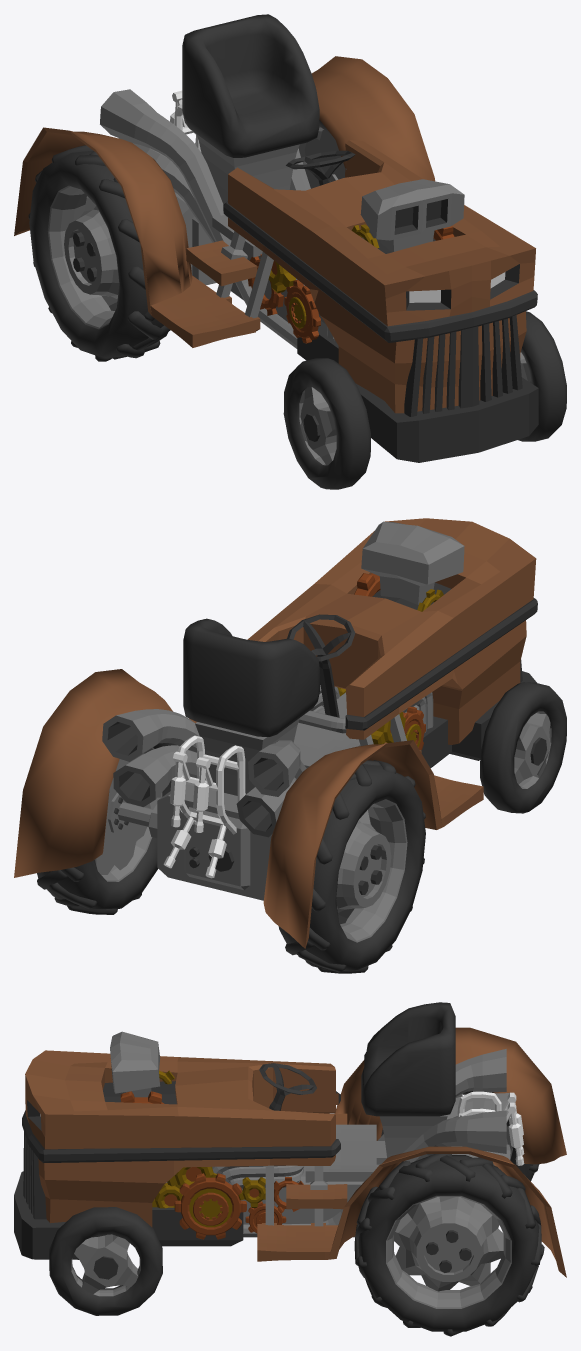
The model's file is tractor.fbx.
3 renders of one model, top to bottom at view 1: azimuth 30°, elevation 25°; view 2: azimuth 150°, elevation 25°; view 3: azimuth 270°, elevation 25°, orthographic. The views are drawn at different scales.
Visible parts, largest first — view 1: case, big_weel_r, weel_cover_r, seat, small_weel_r, weel_cover_l, exhaust, case.001, frame, small_weel_l, cog4, case.002 (+3 smaller); view 2: case, big_weel_r, weel_cover_l, weel_cover_r, seat, frame, exhaust, small_weel_r, big_weel_l, case.001, attaching_system, steer (+4 smaller); view 3: case, big_weel_l, small_weel_l, seat, weel_cover_l, weel_cover_r, exhaust, case.001, cog10, platform, frame, engine (+8 smaller).
Boxes of the visible parts, x1,y1,x2,y2 form: case: [223, 140, 538, 462]; big_weel_r: [28, 145, 170, 361]; weel_cover_r: [14, 127, 273, 347]; seat: [182, 14, 319, 157]; small_weel_r: [283, 358, 370, 489]; weel_cover_l: [311, 56, 435, 181]; exhaust: [100, 89, 310, 348]; case.001: [360, 179, 464, 253]; frame: [174, 134, 338, 324]; small_weel_l: [518, 311, 566, 441]; cog4: [284, 279, 320, 343]; case.002: [406, 264, 519, 310]; case: [247, 518, 537, 760]; big_weel_r: [278, 760, 425, 973]; weel_cover_l: [14, 669, 196, 877]; weel_cover_r: [263, 714, 483, 948]; seat: [183, 618, 320, 736]; frame: [108, 692, 346, 900]; exhaust: [102, 709, 306, 837]; small_weel_r: [480, 682, 566, 813]; big_weel_l: [37, 743, 176, 914]; case.001: [361, 521, 464, 609]; attaching_system: [163, 735, 245, 878]; steer: [287, 614, 355, 717]; case: [14, 1050, 340, 1259]; big_weel_l: [354, 1154, 544, 1336]; small_weel_l: [49, 1207, 162, 1315]; seat: [361, 1002, 455, 1116]; weel_cover_l: [257, 1146, 566, 1277]; weel_cover_r: [335, 1027, 566, 1164]; exhaust: [243, 1049, 510, 1237]; case.001: [103, 1031, 176, 1104]; cog10: [174, 1173, 246, 1239]; platform: [305, 1124, 386, 1182]; frame: [166, 1115, 447, 1237]; engine: [152, 1207, 243, 1246].
Bounding box in the file's own units: 612 × 582 × 1128.
